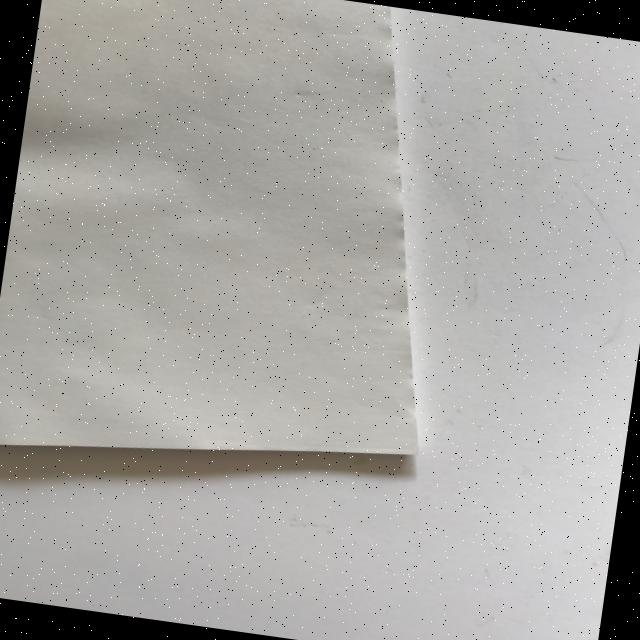paper: (0, 0, 481, 505)
